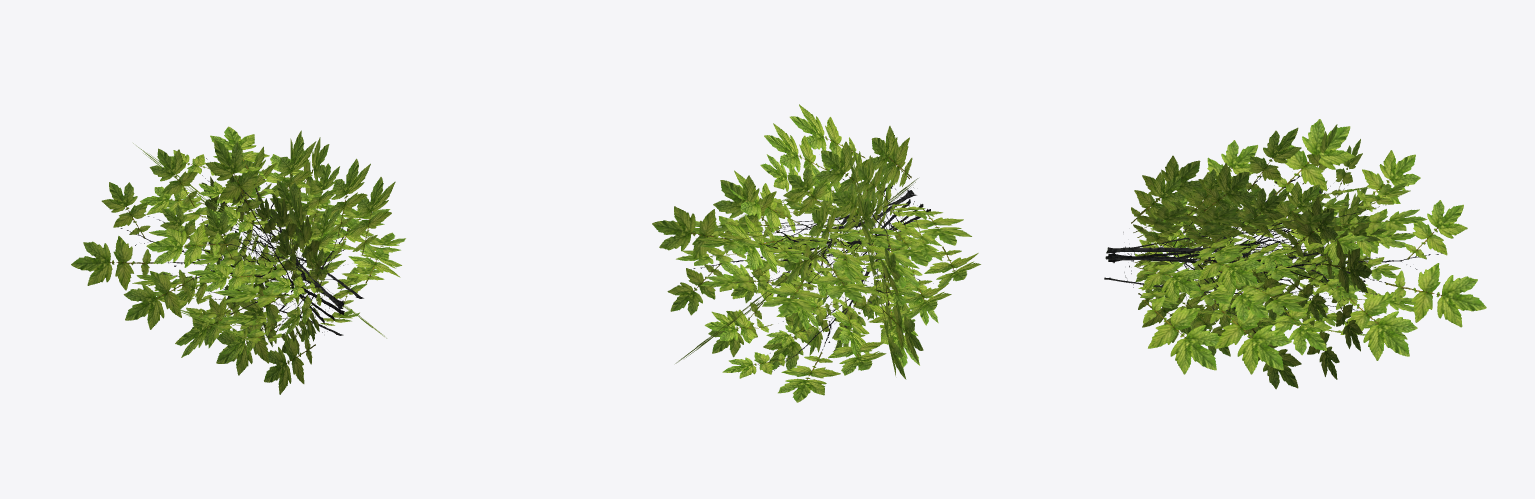
File: Bush_04.FBX
The picture shows the model from 3 angles, left to right: view 1: azimuth 30°, elevation 25°; view 2: azimuth 150°, elevation 25°; view 3: azimuth 270°, elevation 25°; orthographic projection. The views are drawn at different scales.
Parts seen in each view (by area): view 1: Bush_04; view 2: Bush_04; view 3: Bush_04.
Boxes of the visible parts, left/top/right/bottom form: Bush_04: left=71, top=126, right=405, bottom=394; Bush_04: left=652, top=104, right=980, bottom=402; Bush_04: left=1104, top=119, right=1486, bottom=389.
Bounding box in the file's own units: 47.48 × 46.06 × 43.08.
